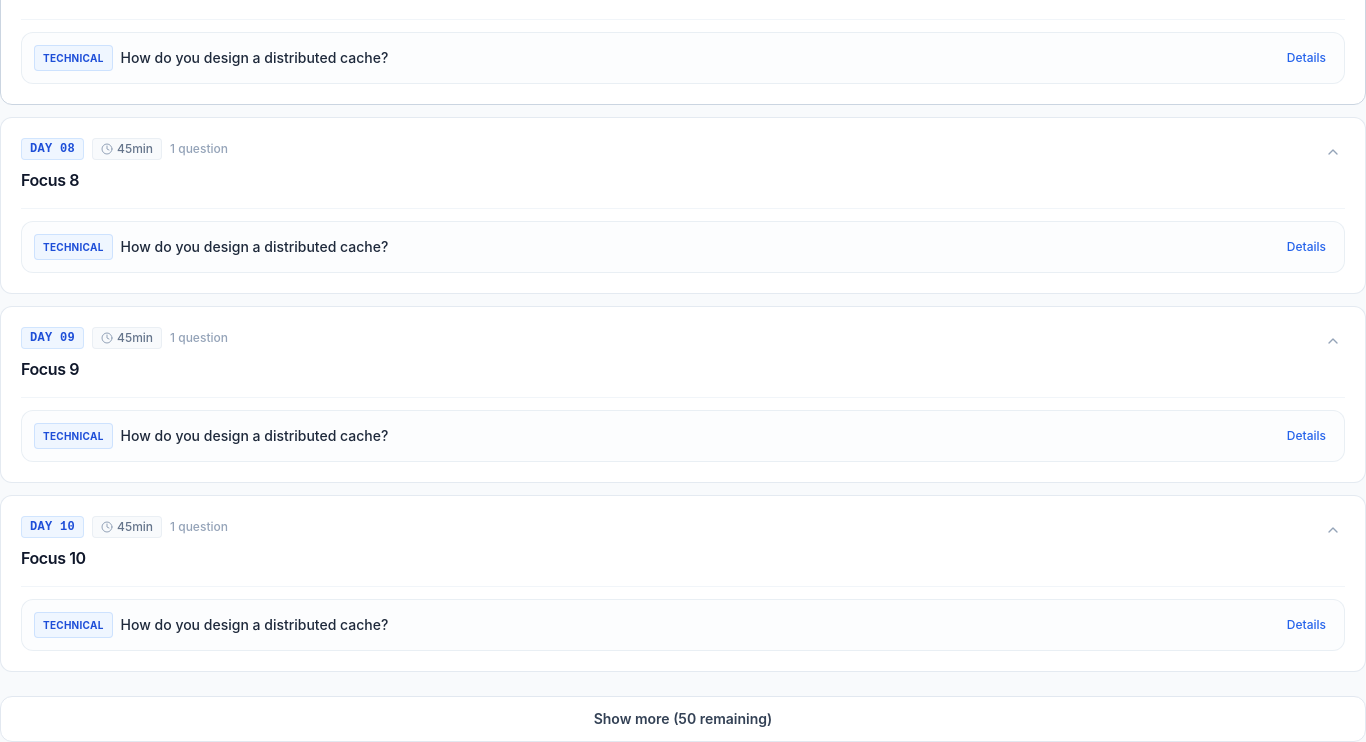
Test: Frontend: Schedule Tab › 29. loads more days when Show more is clicked (N=60)
(page scrolled)
Check: the text "Focus 11" is not shown
Click the button "Show more (50 remaining)".
click(683, 718)  # box x1=0 y1=696 x2=1365 y2=741
(page scrolled)
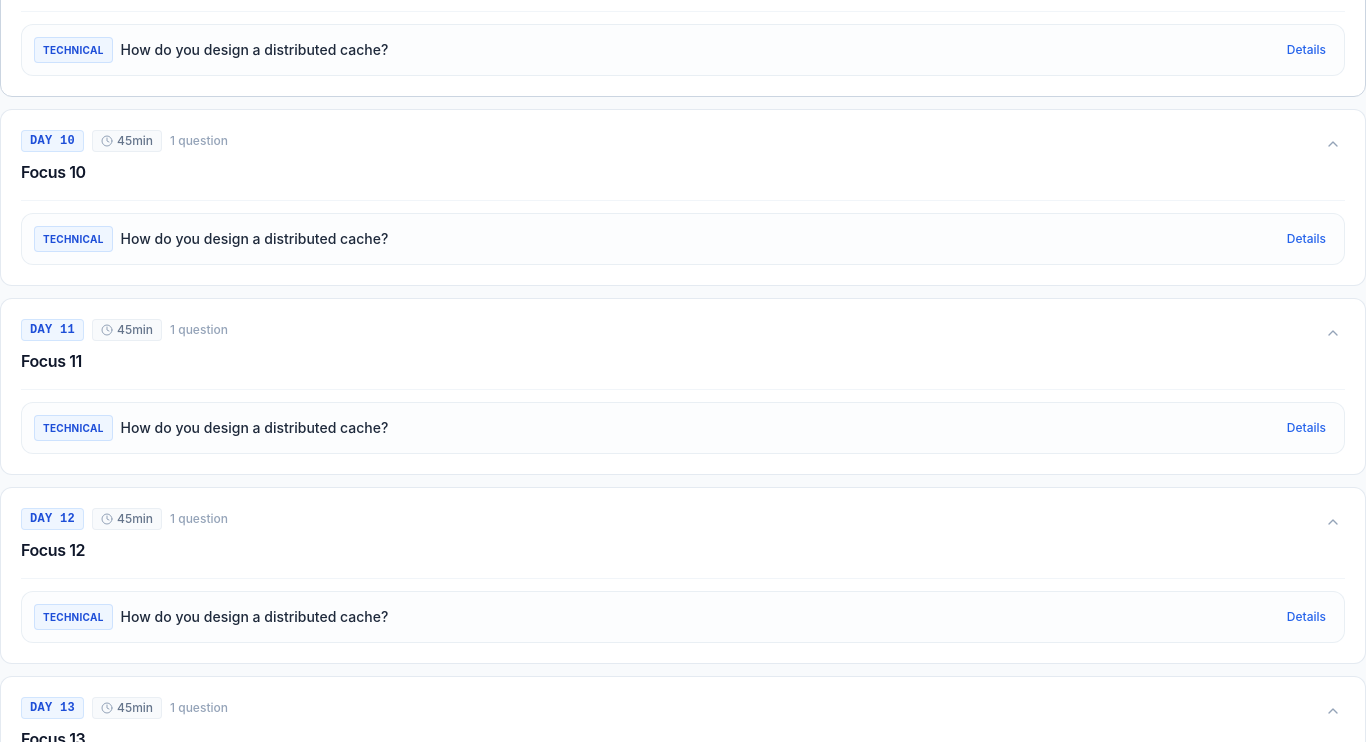
Check: the heading "Focus 11" is shown, box x1=21 y1=350 x2=82 y2=370
